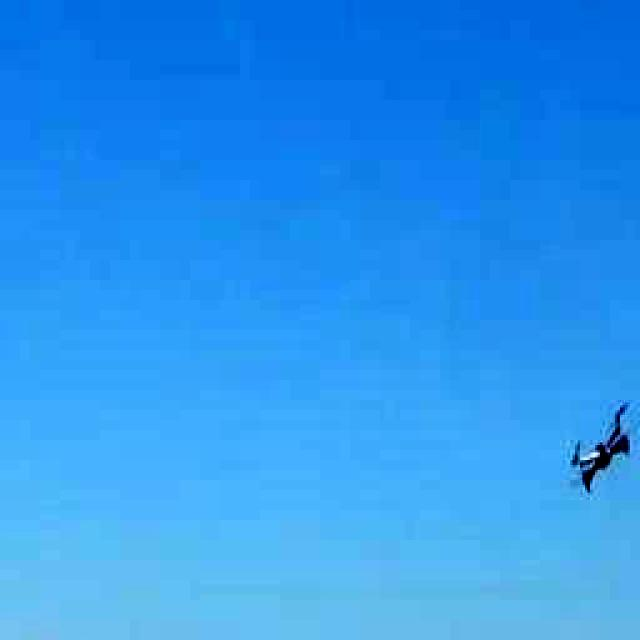bird: (516, 341, 640, 539)
